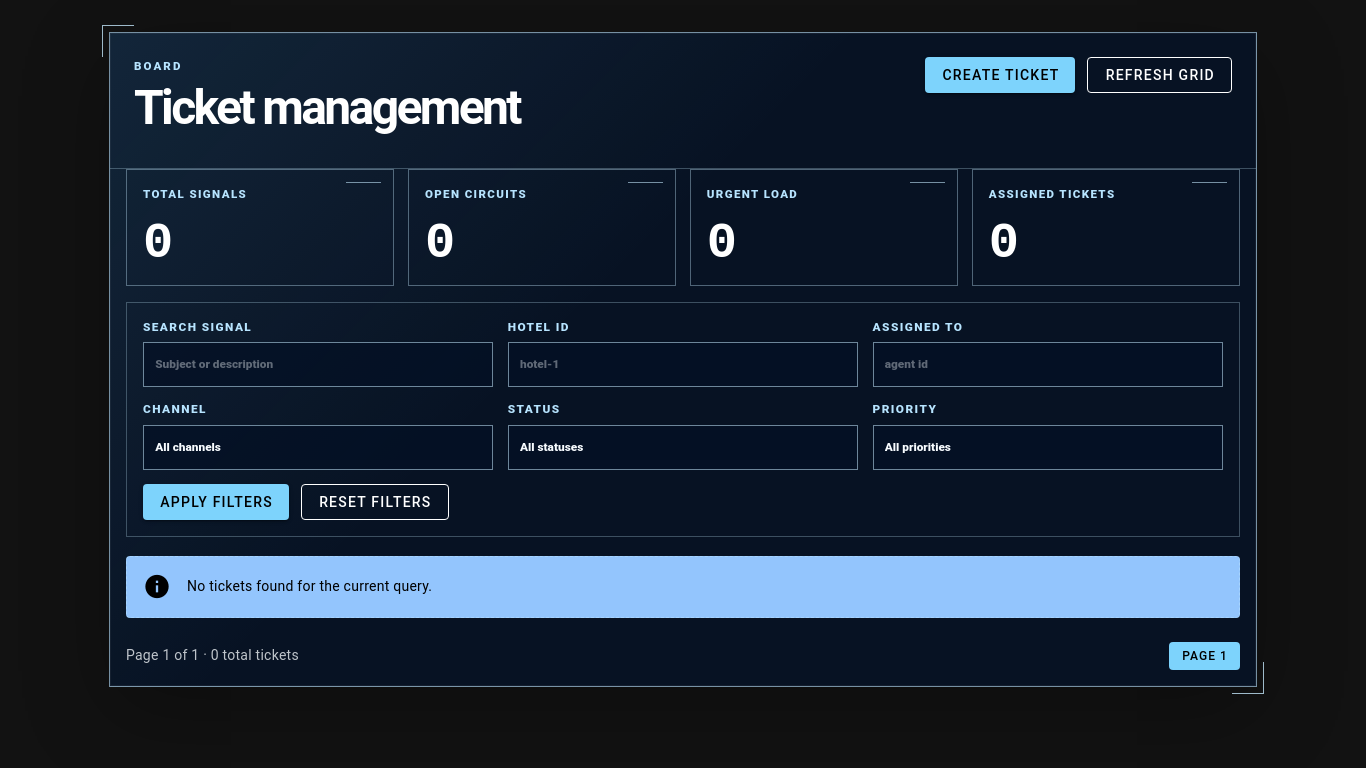
Test: TicketListView › shows create API failures and preserves entered values
Click the button "Create ticket".
click(1000, 75)  # box [925,57,1076,93]
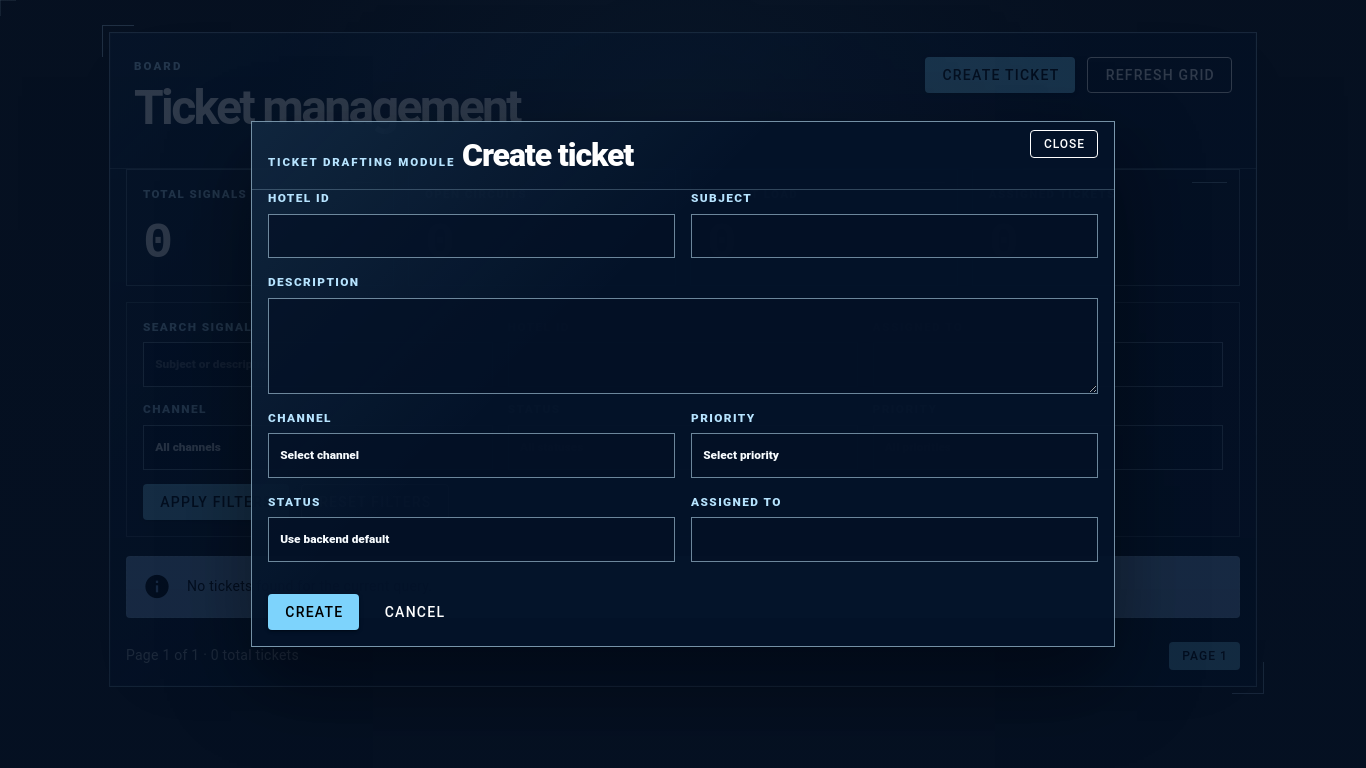
Type "hotel-1" into the field named "Hotel ID".
click(472, 236); type("hotel-1")  # box [268,214,675,258]
Type "Preserved subject" into the field named "Subject".
click(894, 236); type("Preserved subject")  # box [691,214,1098,258]
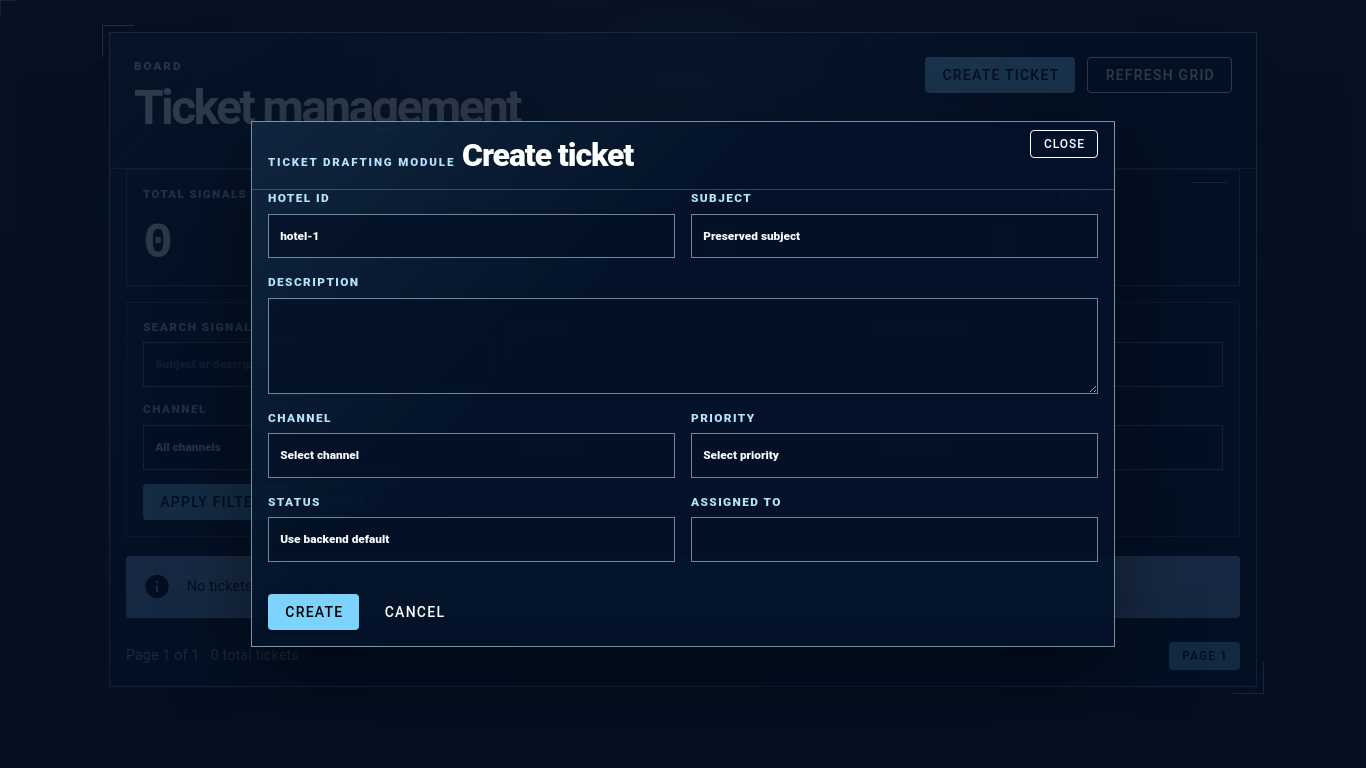
Type "Still in form" into the text box named "Description".
click(683, 346); type("Still in form")  # box [268,298,1098,394]
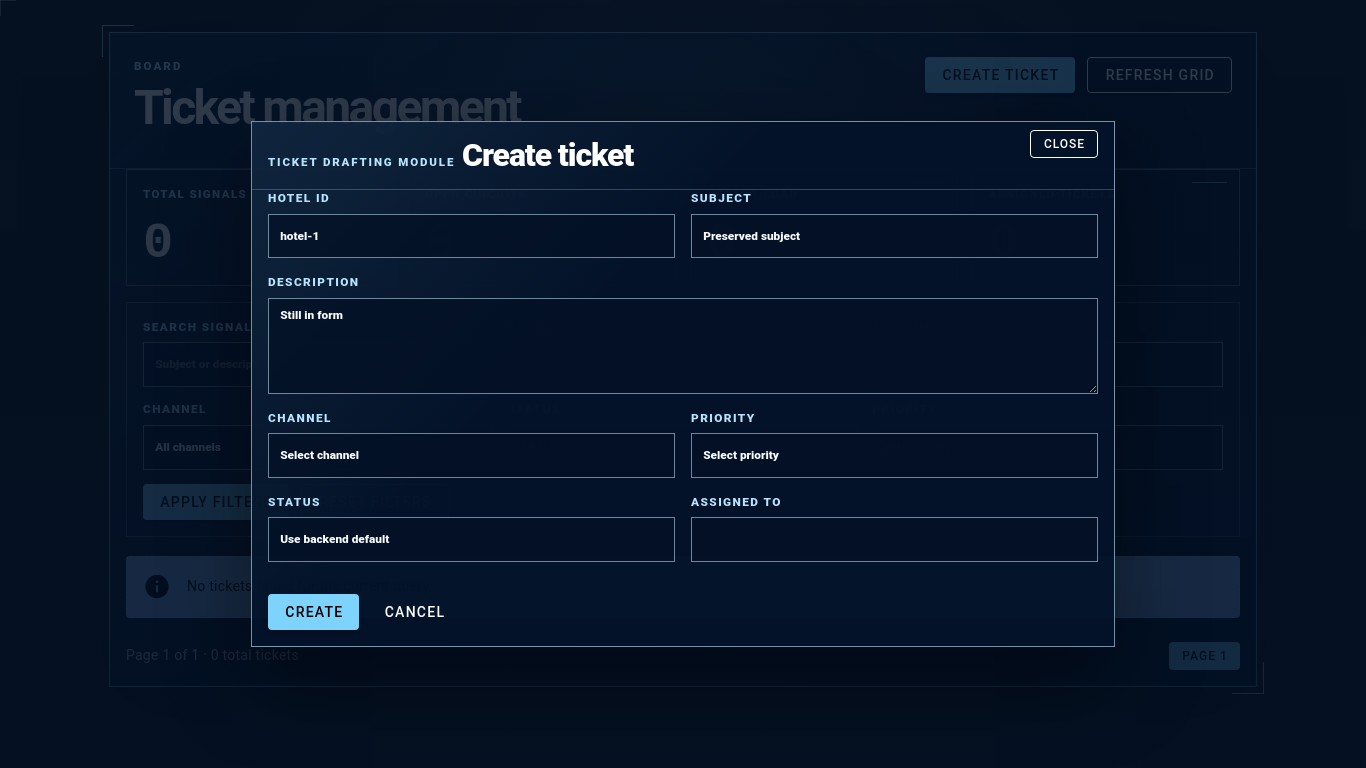
Select "chat" in the dropdown named "Channel" at (472, 455), box [268,433,675,478]
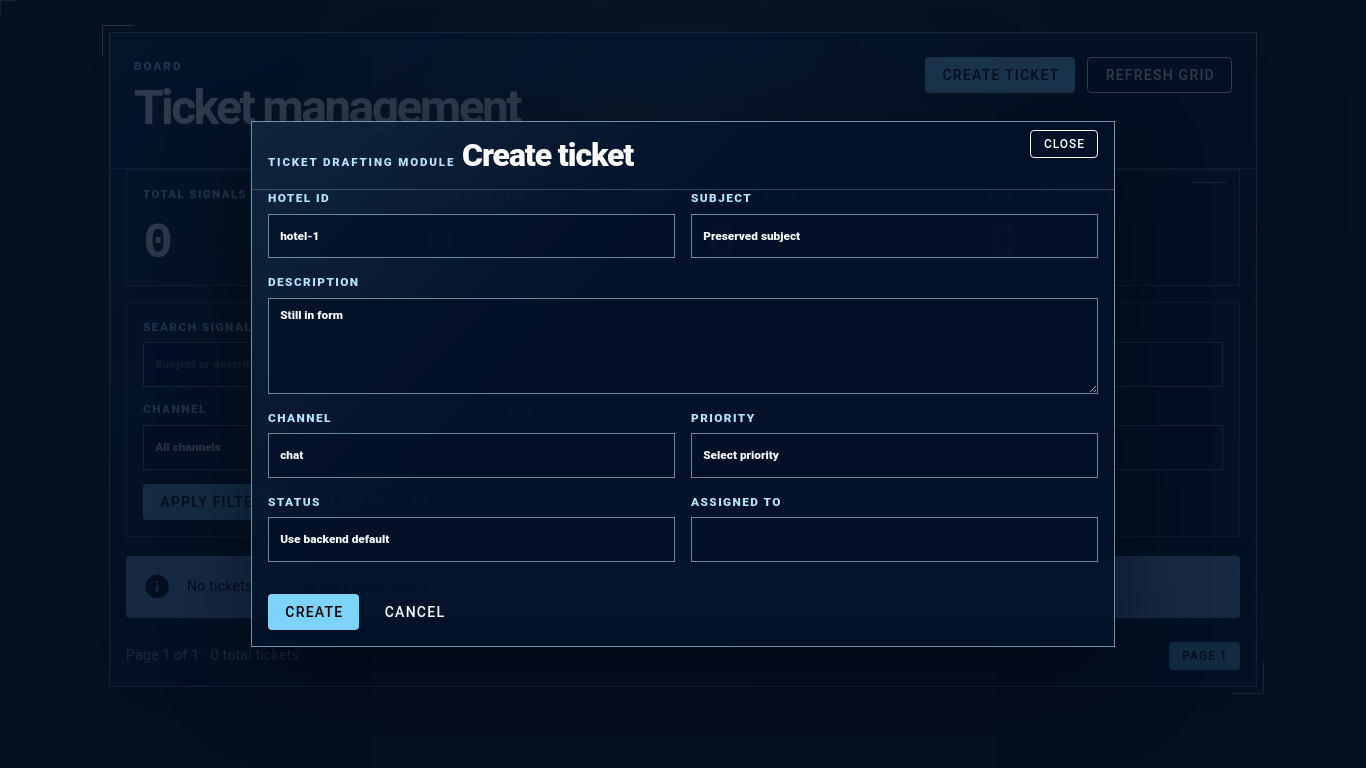
Select "high" in the dropdown named "Priority" at (894, 455), box [691,433,1098,478]
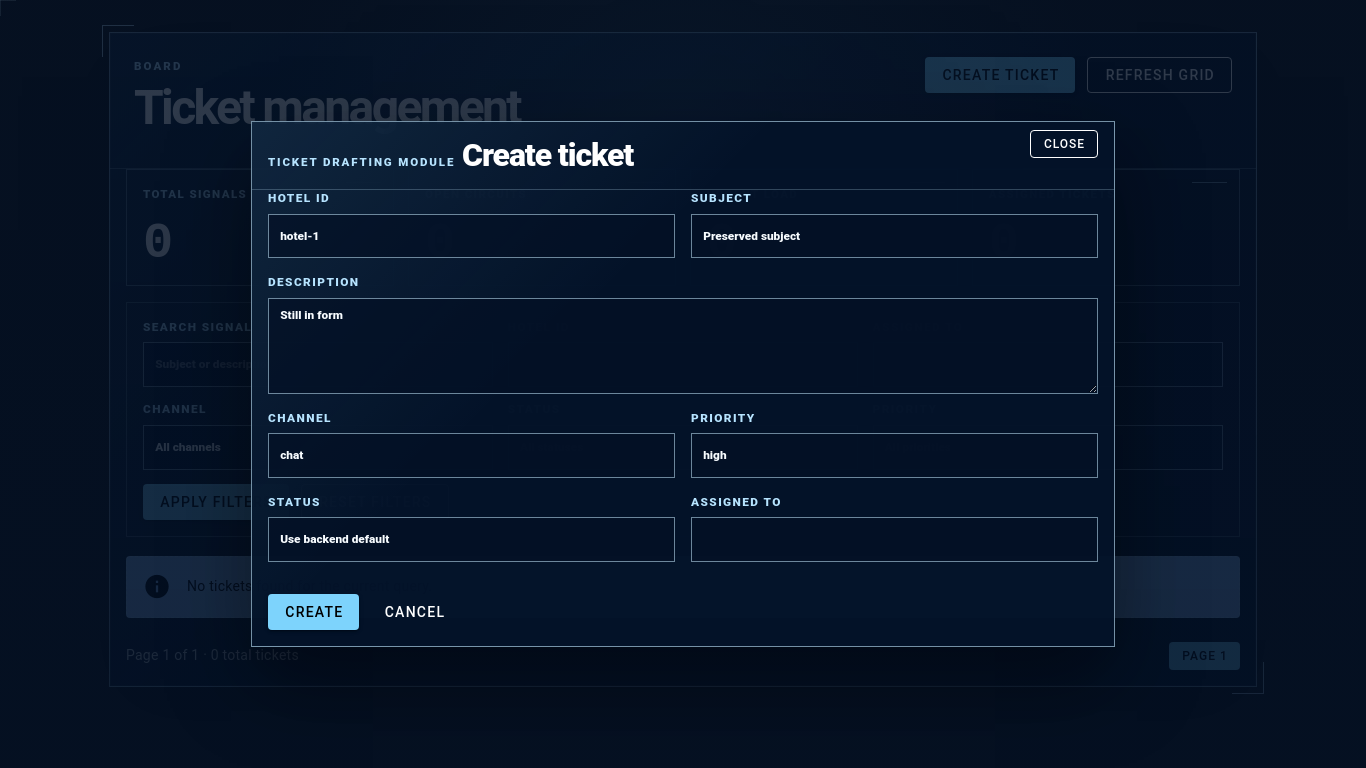
Click the button "Create".
click(314, 612)  # box [268,594,360,630]
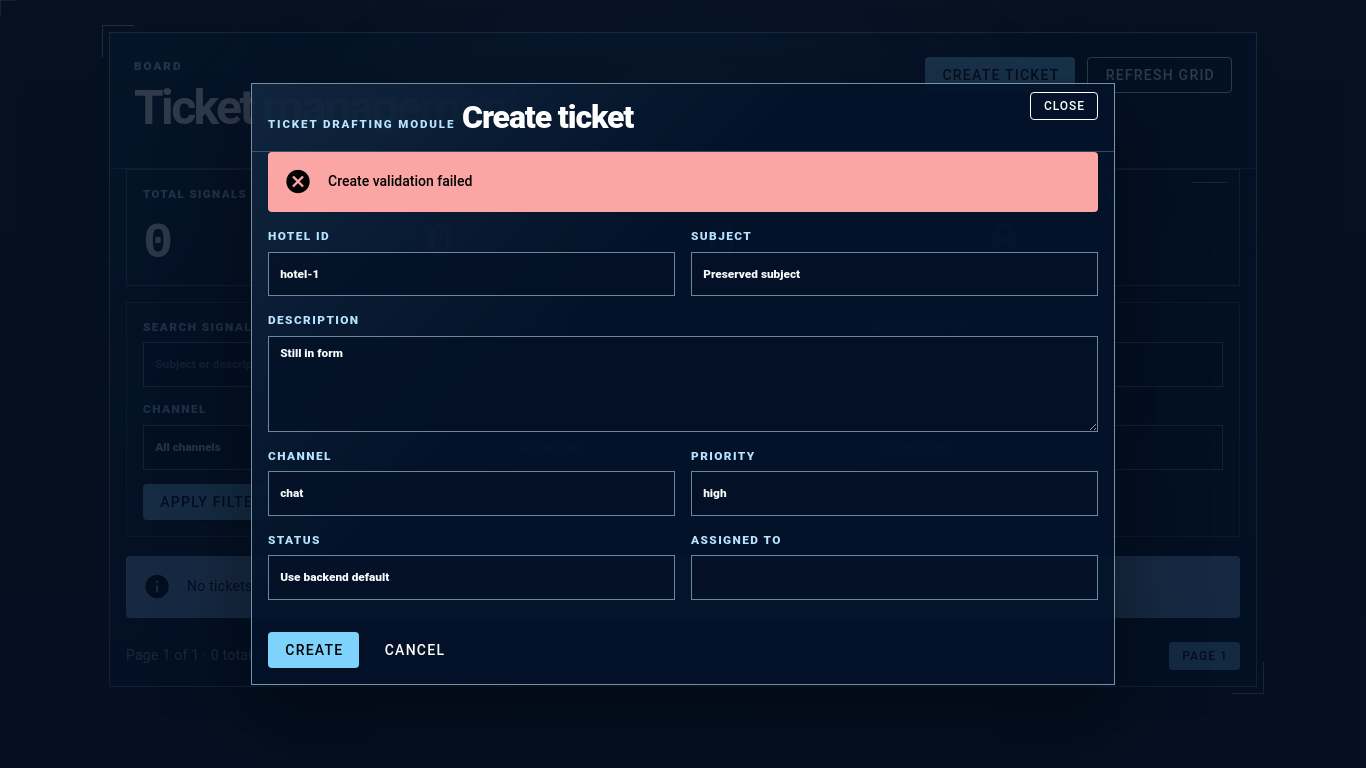
expect the text "Create validation failed" is shown: met, box [328,173,472,189]
